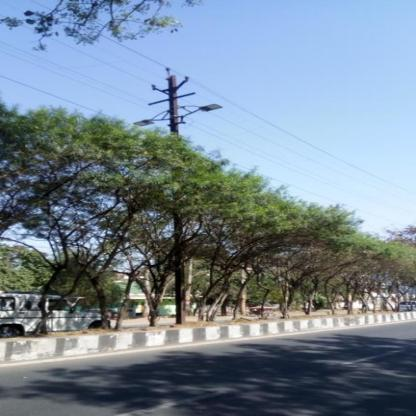Electrical Pole: (132, 63, 229, 329)
